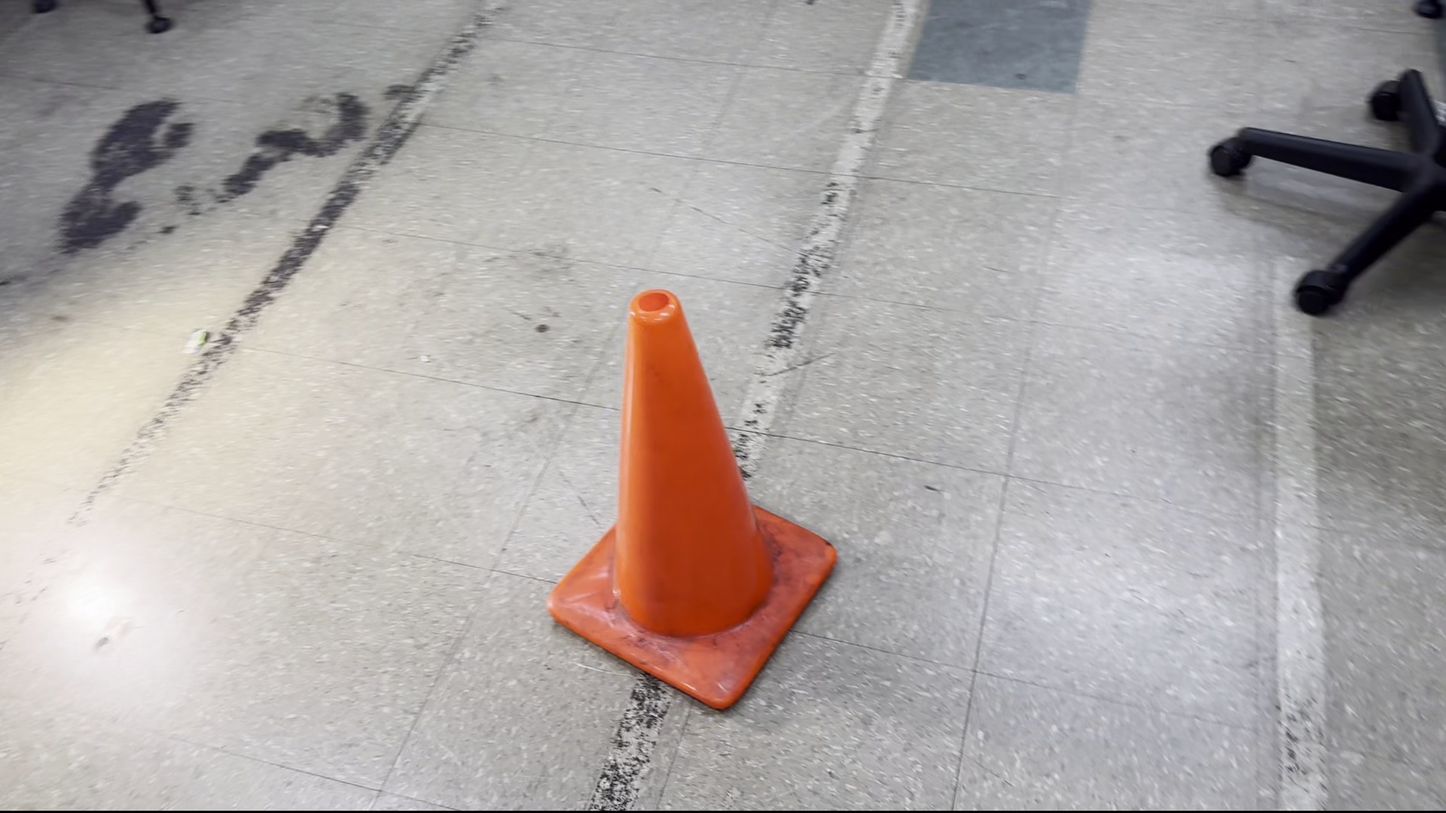traffic_cone: (546, 287, 838, 711)
